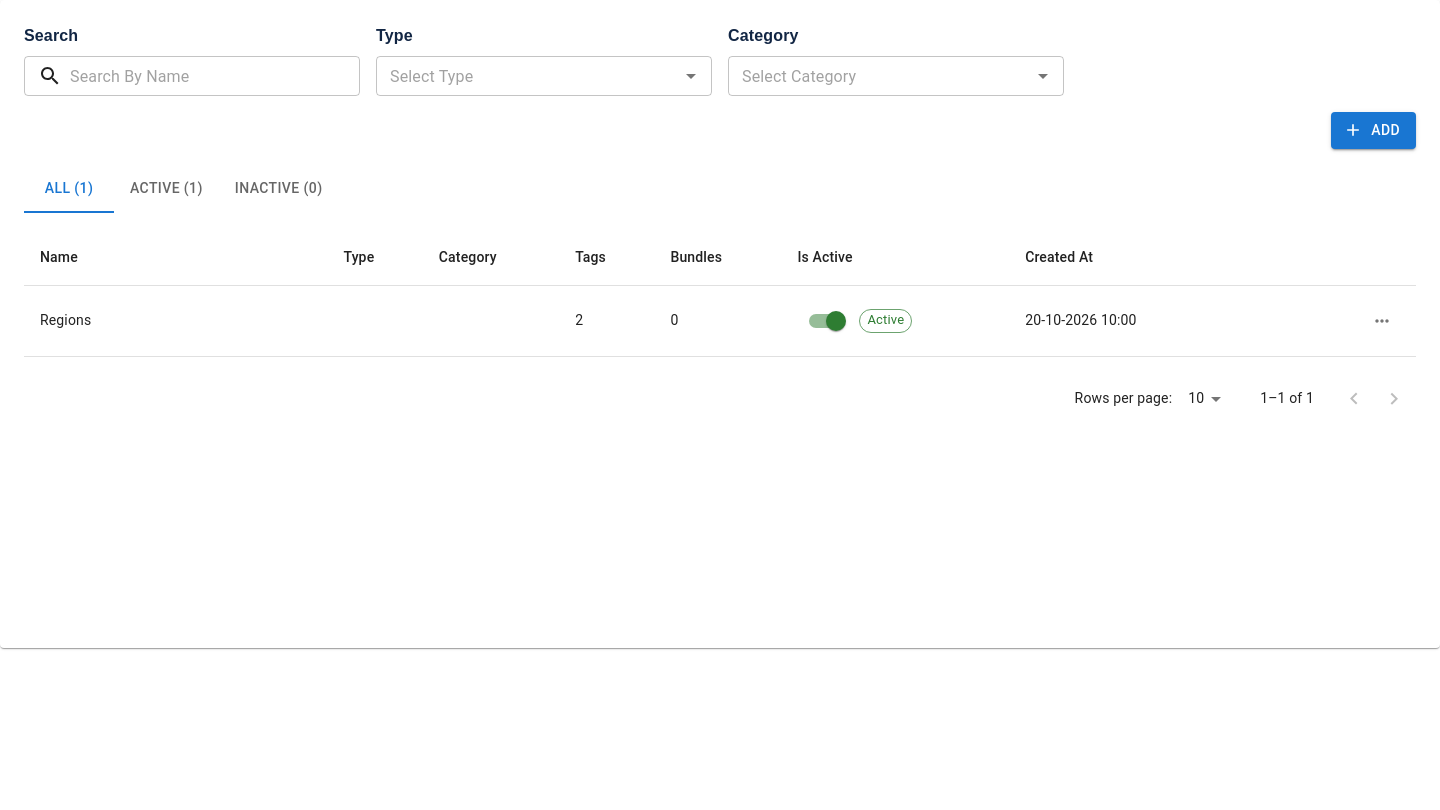
Test: Groups list › the row ⋯ menu lists Edit, Reorder tags and Delete, each with its description line (TEOS-177)
Later steps or results of the test are not shown.
expect the text "Regions" is shown: met, box [24,285,328,356]
Click the button named "Actions for Regions". click: (1382, 320)
box: [1364,302,1400,338]
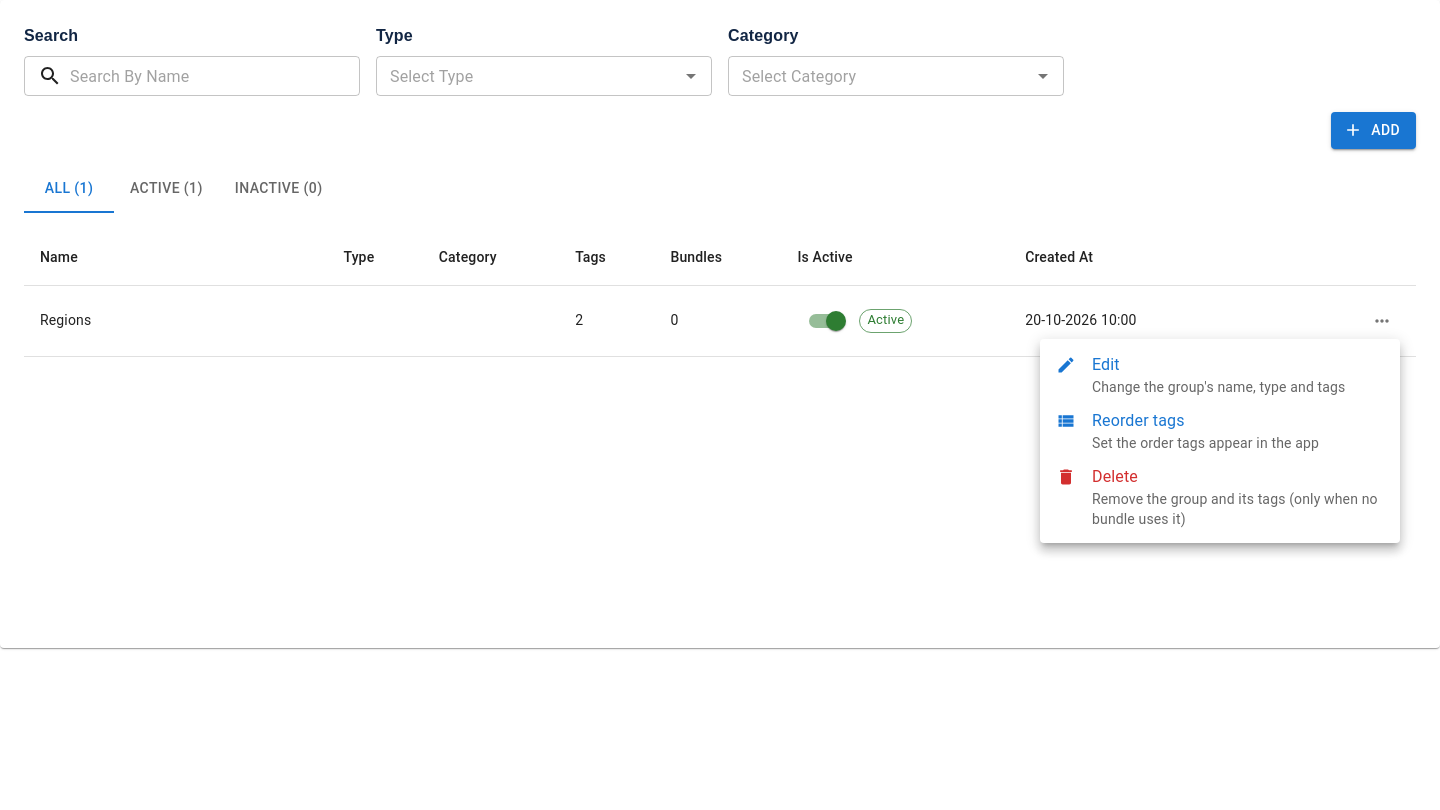
expect the menu items read "EditChange the group's name, type and tags", "Reorder tagsSet the order tags appear in the app", "DeleteRemove the group and its tags (only when no bundle uses it)", in this order: met, box [1056,355,1346,395]; [1056,411,1319,451]; [1040,459,1400,535]
